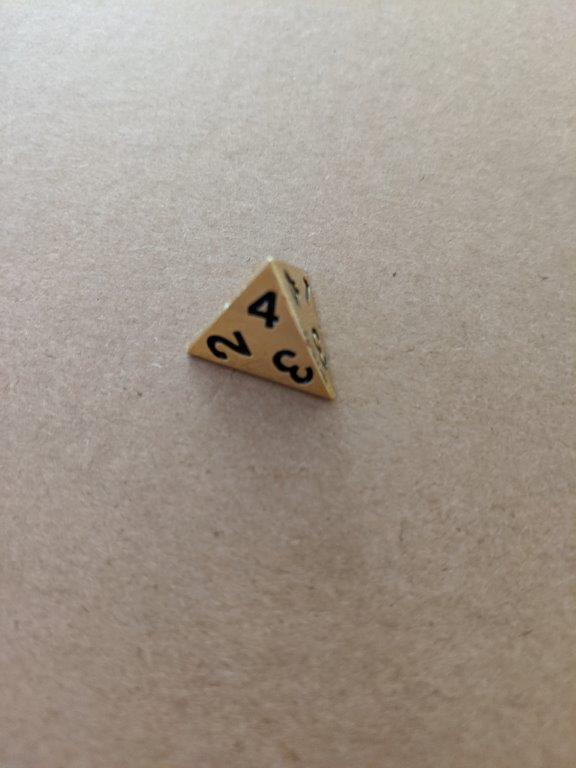d4-4: (185, 254, 347, 412)
